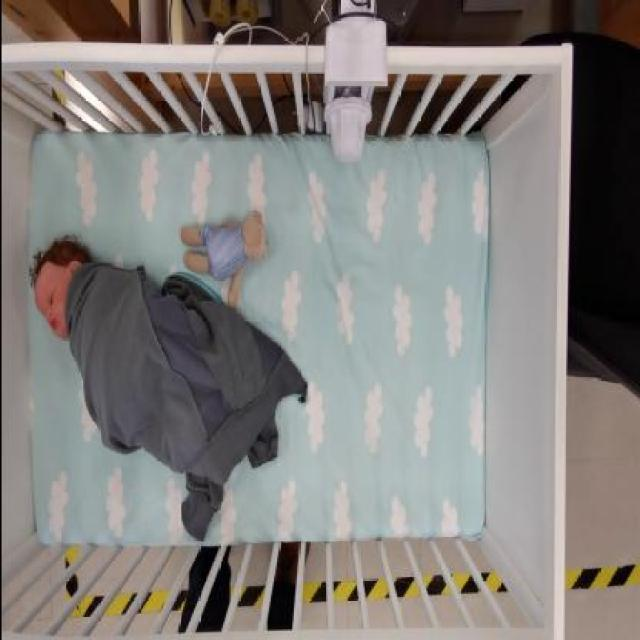baby: (29, 234, 307, 486)
